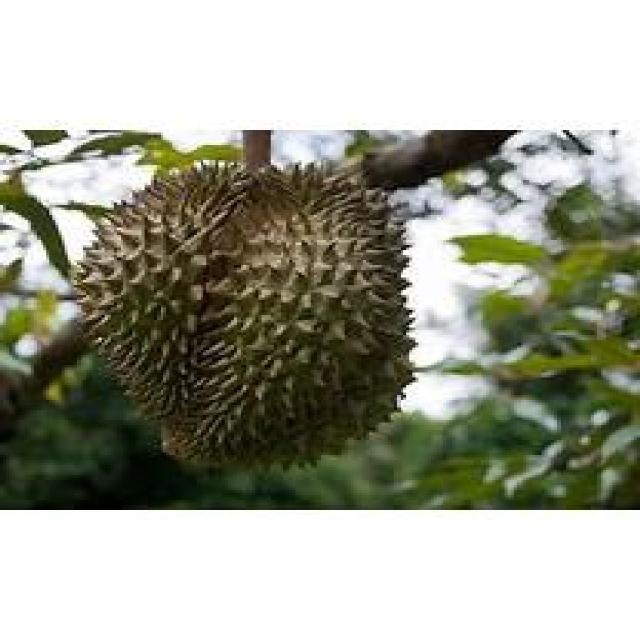agrume: (58, 152, 431, 480)
